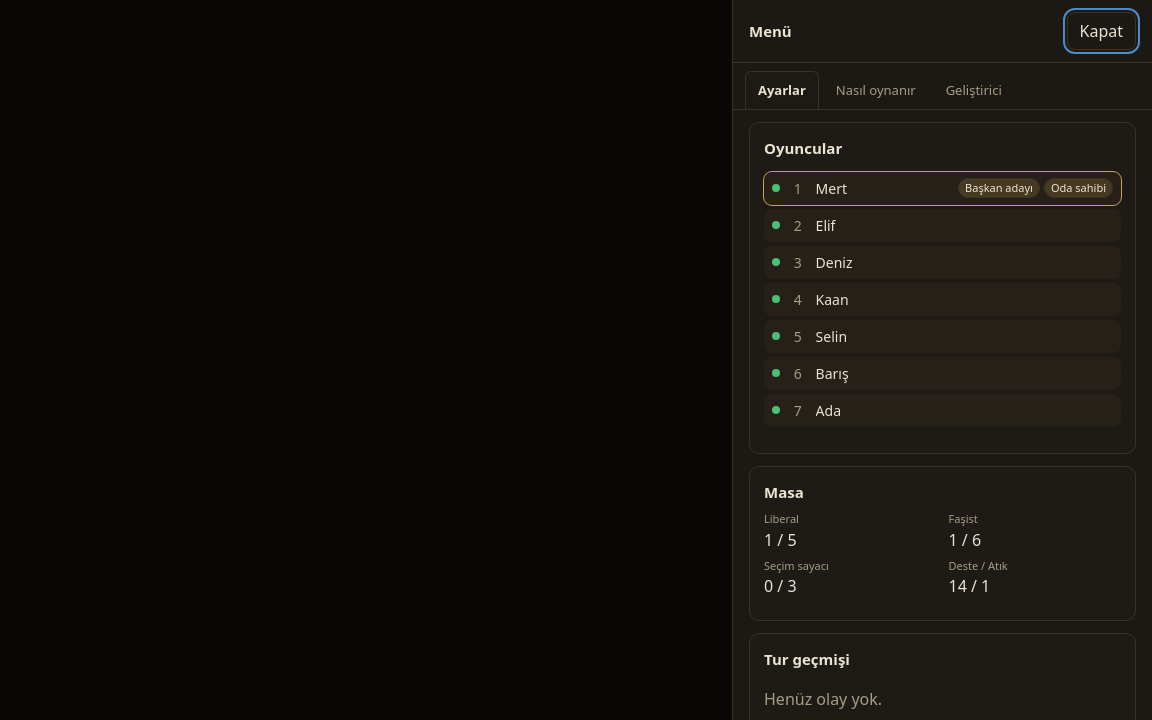
Scenario: GameMenu — sekmeler › tabpanel sekmeye bağlıdır (erişilebilirlik)
The image size is (1152, 720).
What coordinates should you click on to do the following:
click the tab "Nasıl oynanır"
I would click on:
 (876, 90)
Its box is [823, 71, 929, 109].
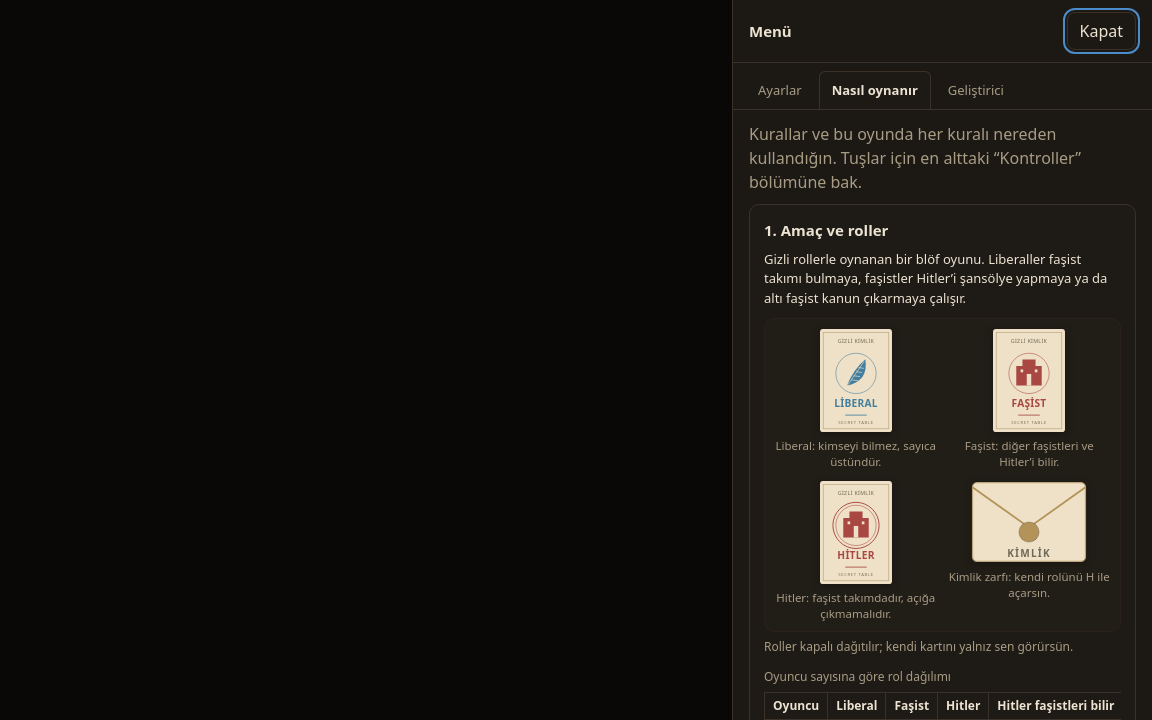
Check: the heading "1. Amaç ve roller" is shown, box [764, 220, 888, 240]
